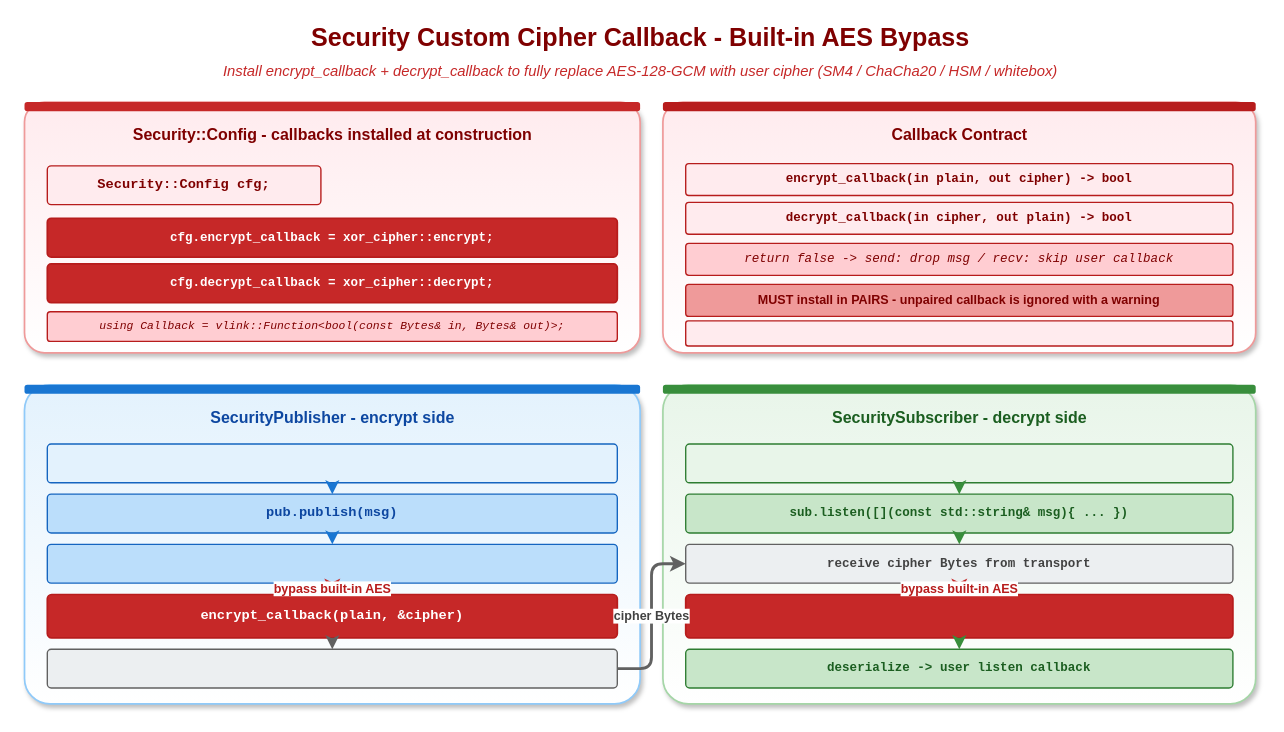
The diagram is 1284 pixels wide and 732 high, and some of its shapes have lost their labels. Here are the shapes that lost their labels. From the top down, the centre of each, then its label:
(958,333): empty input -> Security rejects before callback
(331,463): SecurityPublisher<std::string> pub("dds://demo", cfg)
(958,463): SecuritySubscriber<std::string> sub("dds://demo", cfg)
(331,563): serialize -> plaintext Bytes
(958,615): decrypt_callback(cipher, &plain)
(331,668): cipher Bytes -> transport (dds:// / shm:// / zenoh:// / ...)
